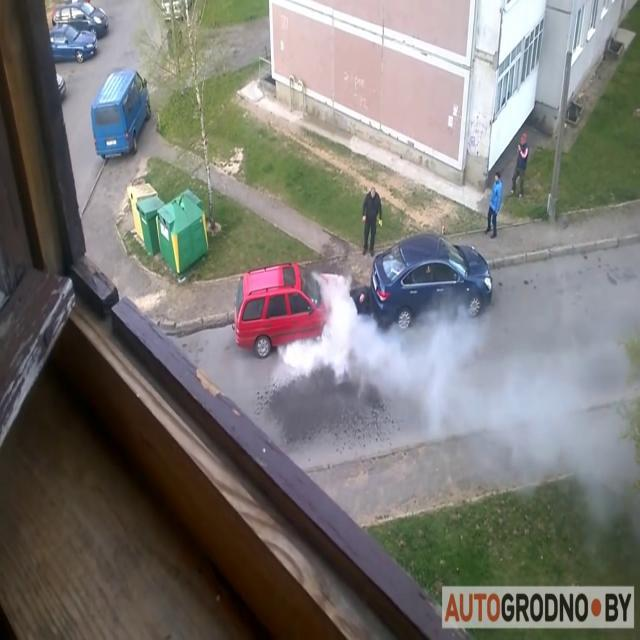Smoke: (294, 268, 518, 412)
